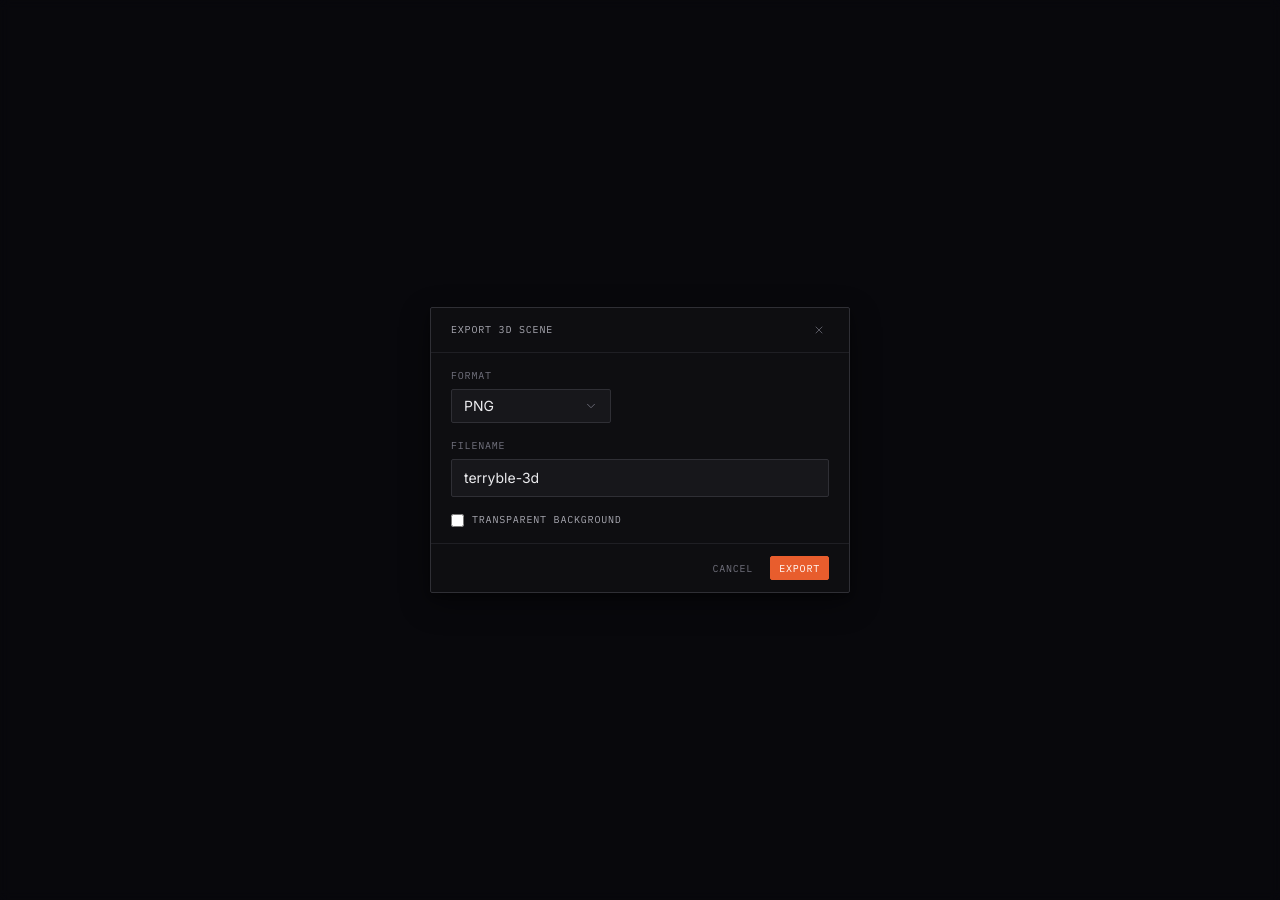
Test: ThreeExportDialog › shows frames/delay inputs only when format is GIF
The width and height of the screenshot is (1280, 900).
Expected: the field labelled "Frames" is not shown
Expected: the field labelled "Delay" is not shown
// Switch to GIF.
Click the dropdown: point(531, 406) [451,389,611,423]
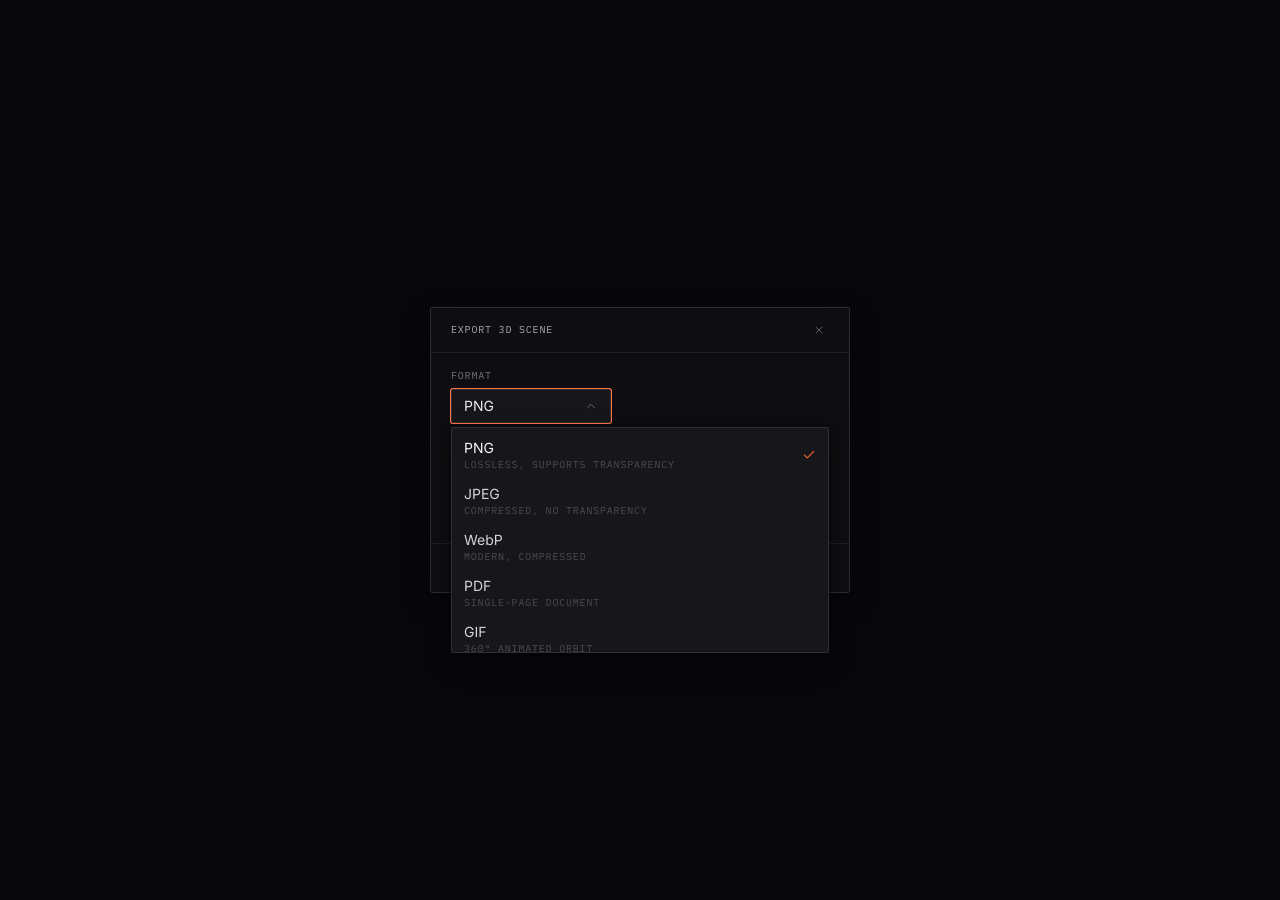
Click the option "GIF 360° animated orbit": point(529, 639) [464,623,593,655]
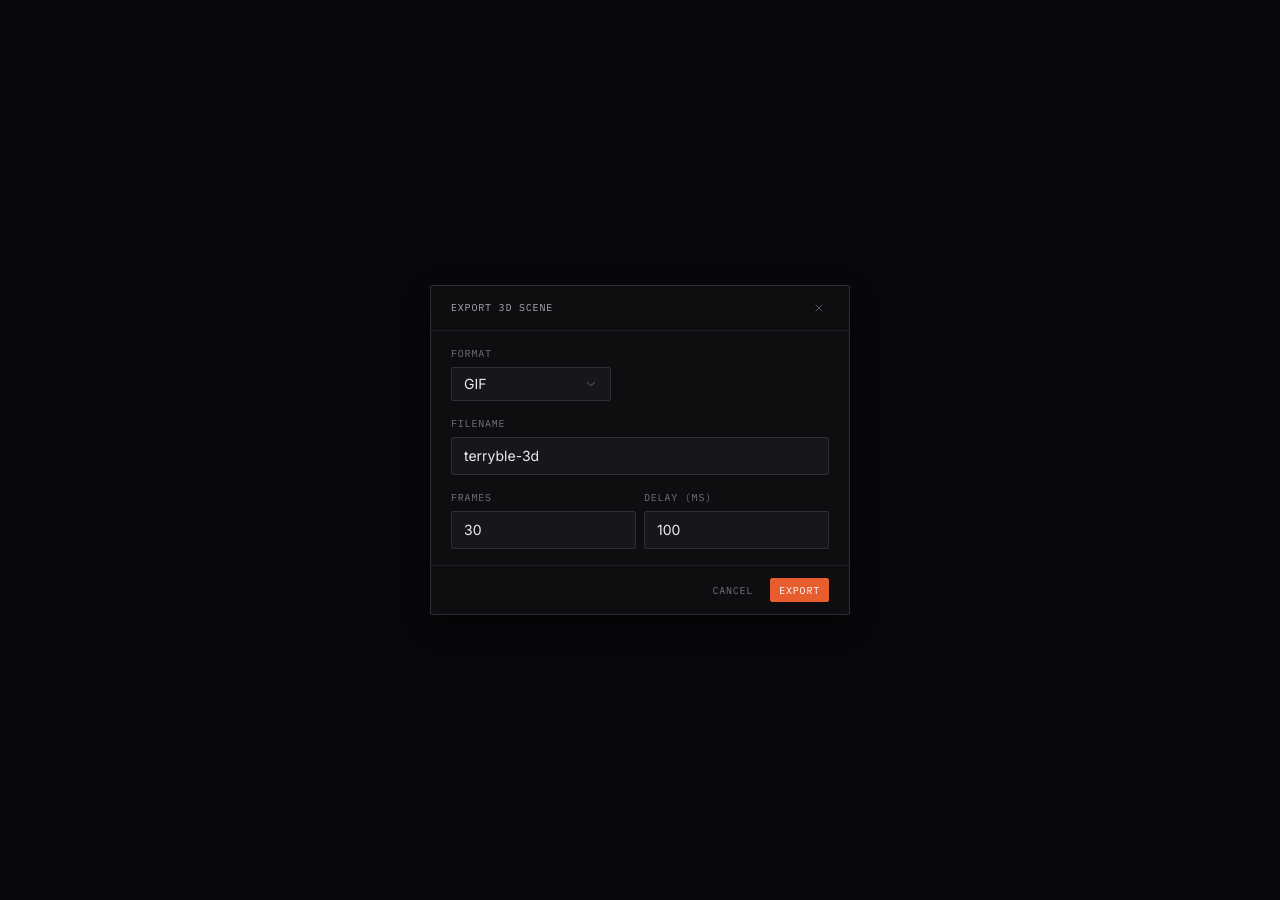
Expected: the number field labelled "Frames" is shown, [451,511,636,549]
Expected: the number field labelled "Delay (ms)" is shown, [644,511,829,549]
